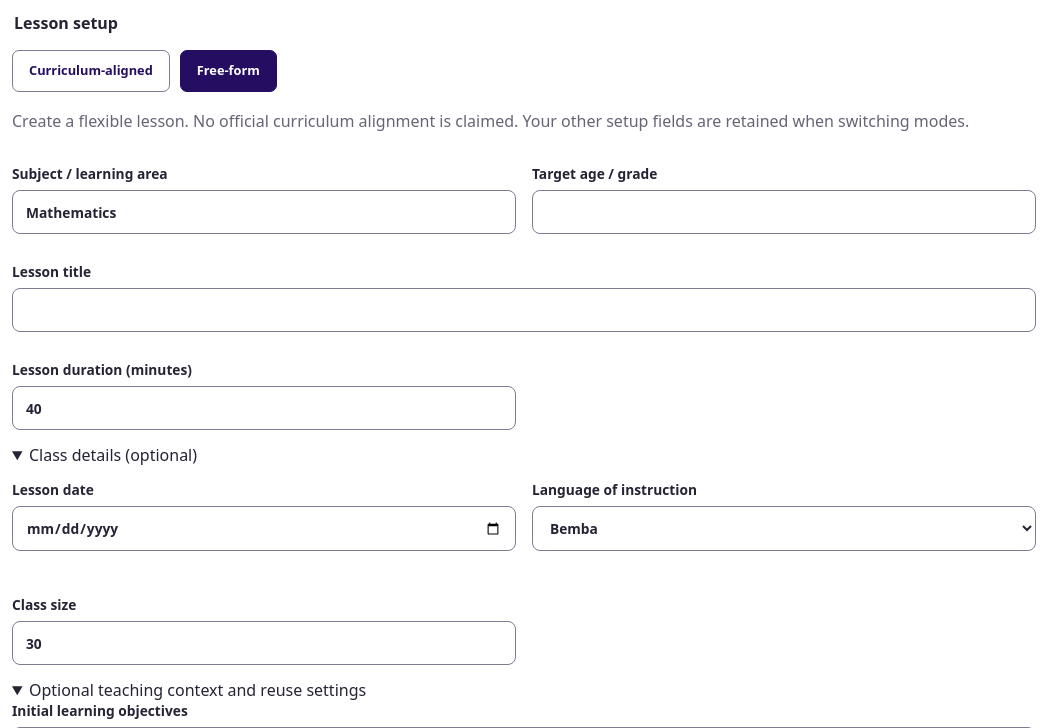
Scenario: lesson structure and setup › switches planning modes without losing objectives, language or subject
Click the button "Curriculum-aligned".
click(91, 71)  # box x1=12 y1=50 x2=170 y2=92
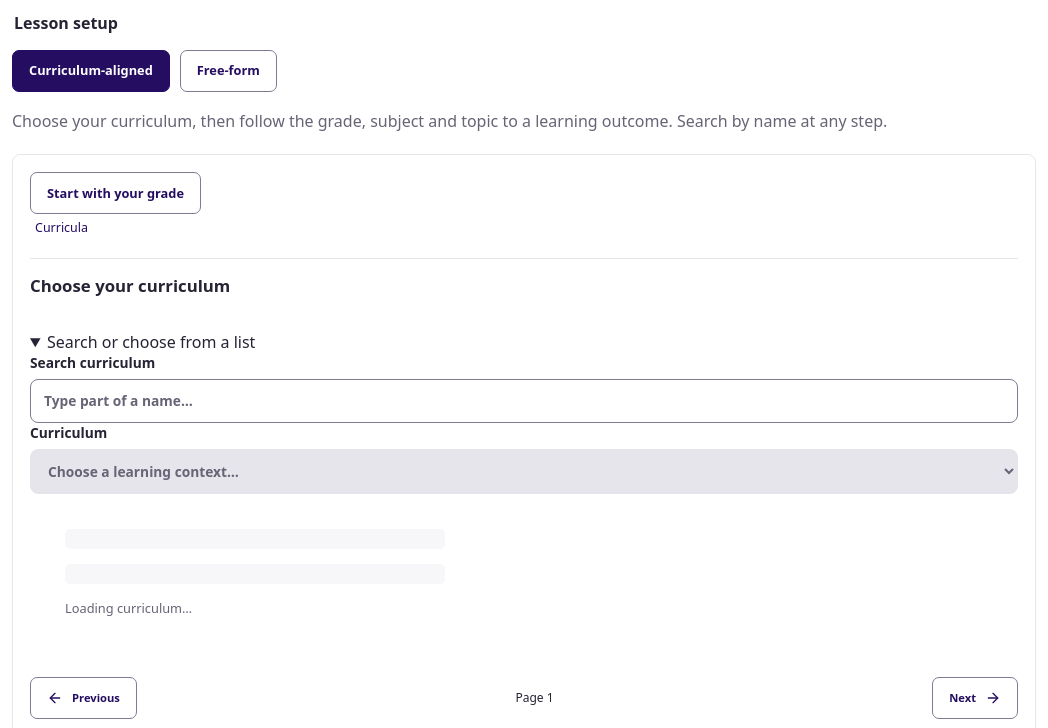
Click the button "Free-form".
click(228, 71)  # box x1=180 y1=50 x2=277 y2=92
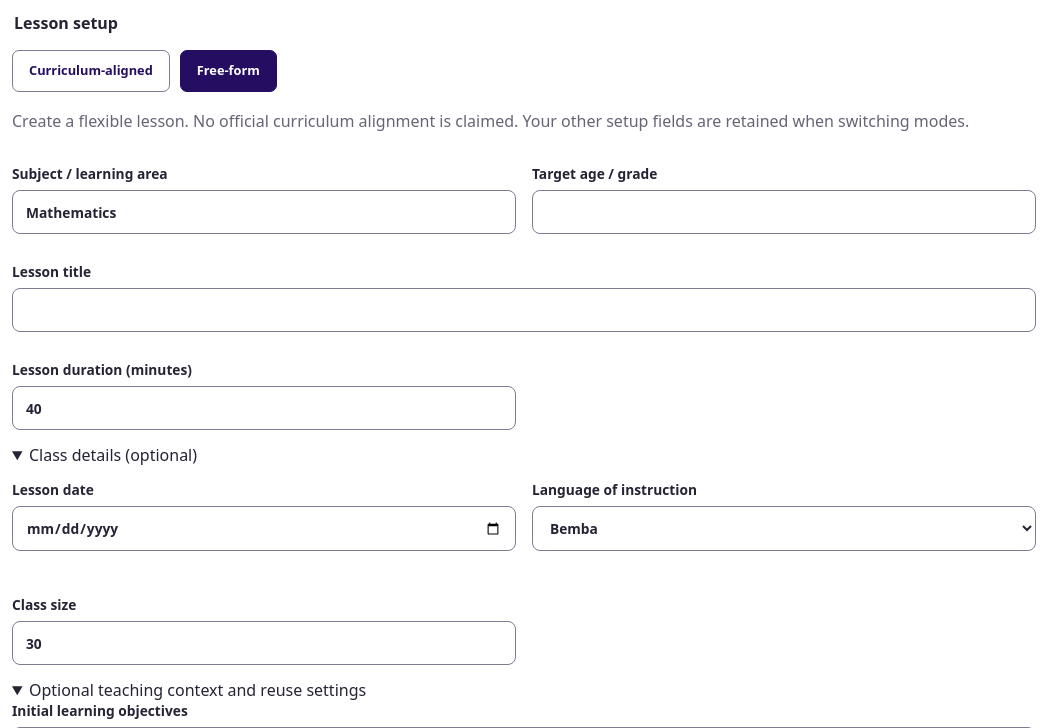
Check: the field labelled "Subject / learning area" holds "Mathematics", box x1=12 y1=190 x2=516 y2=234
